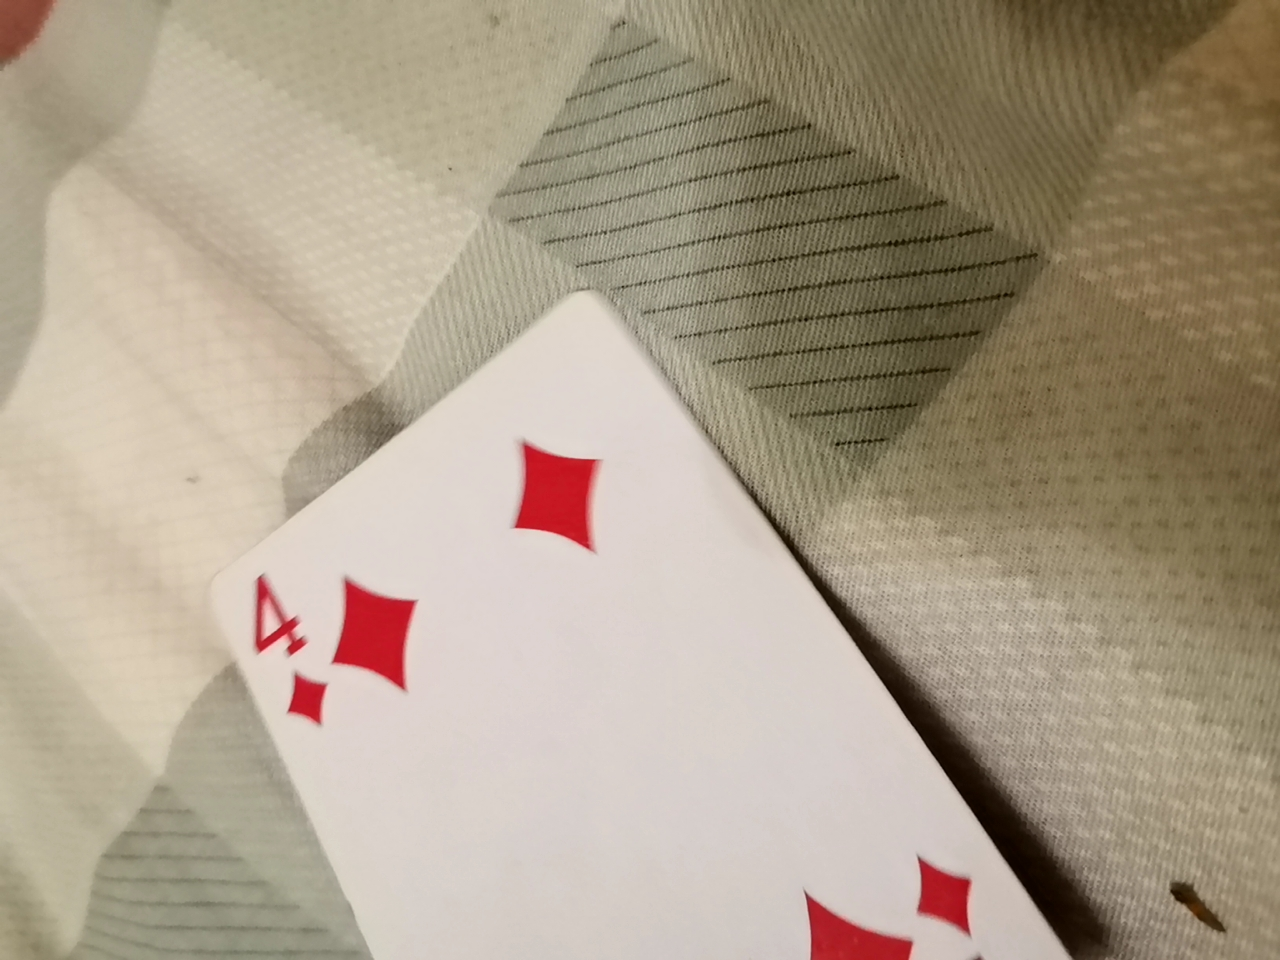fk 4: (200, 270, 1062, 960)
